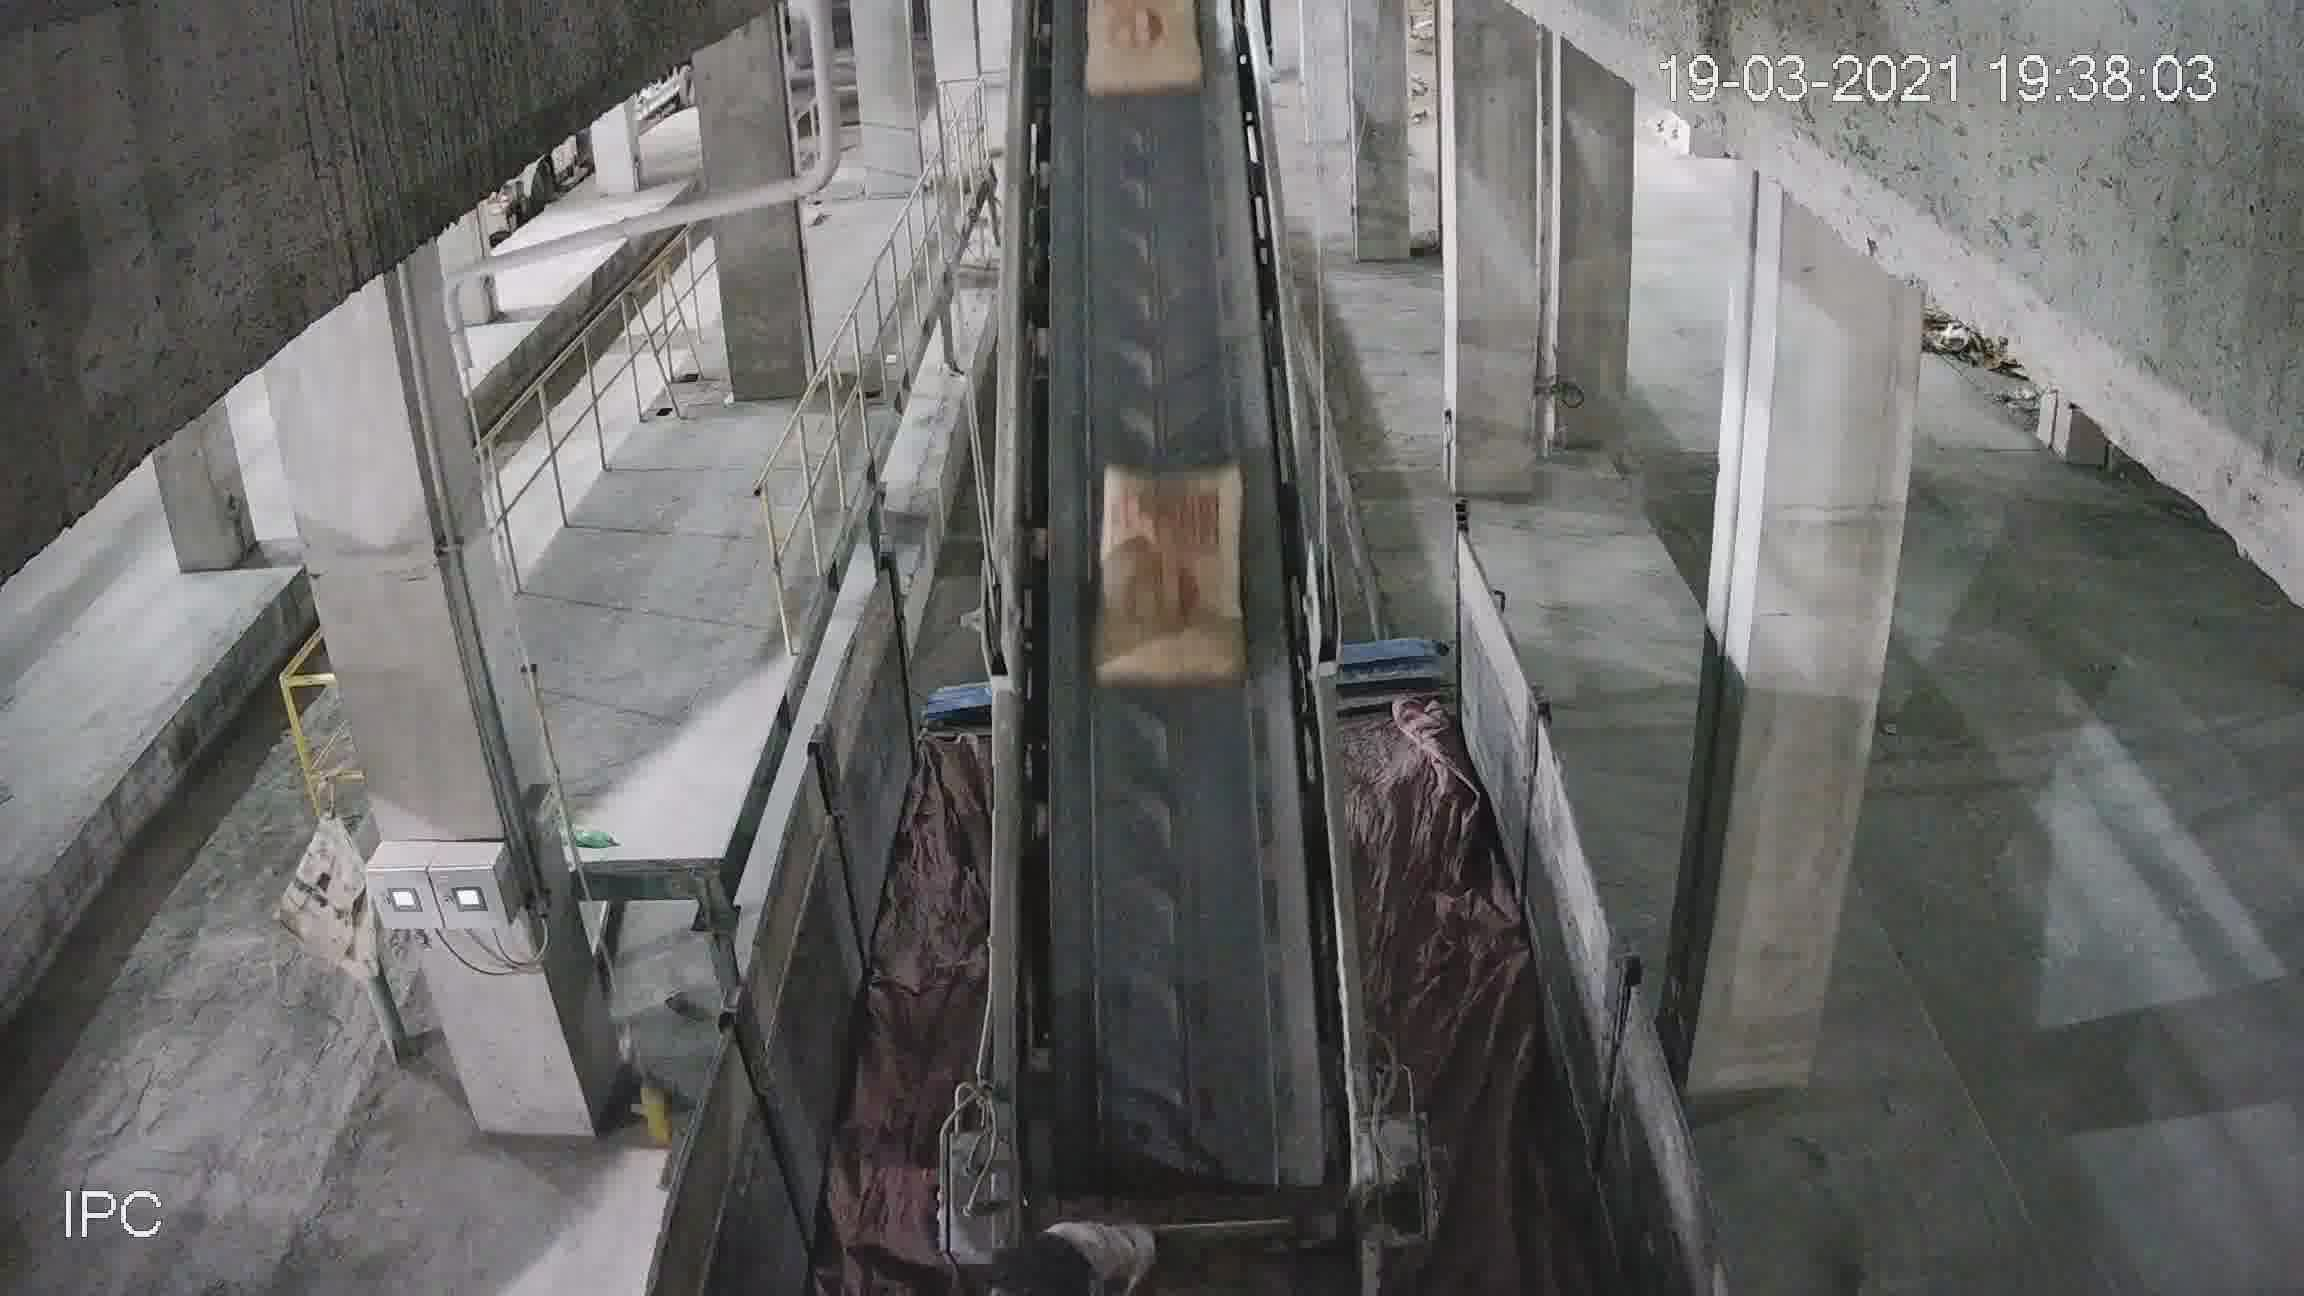bag: (1092, 457, 1249, 684), (1081, 2, 1201, 90)
belt: (987, 98, 1355, 1147)
